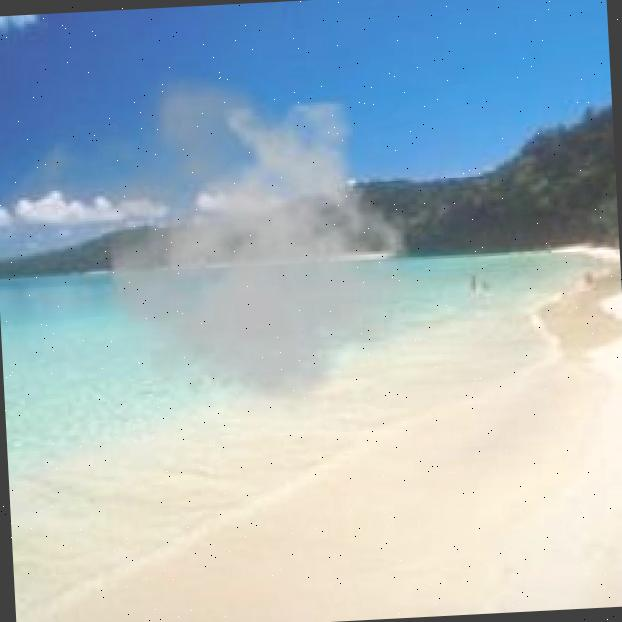smoke: (0, 54, 428, 441)
